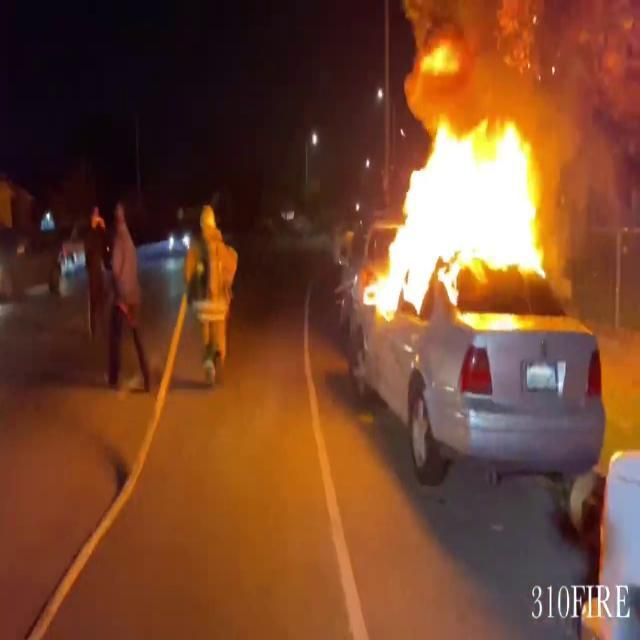Fire: (358, 100, 559, 316)
